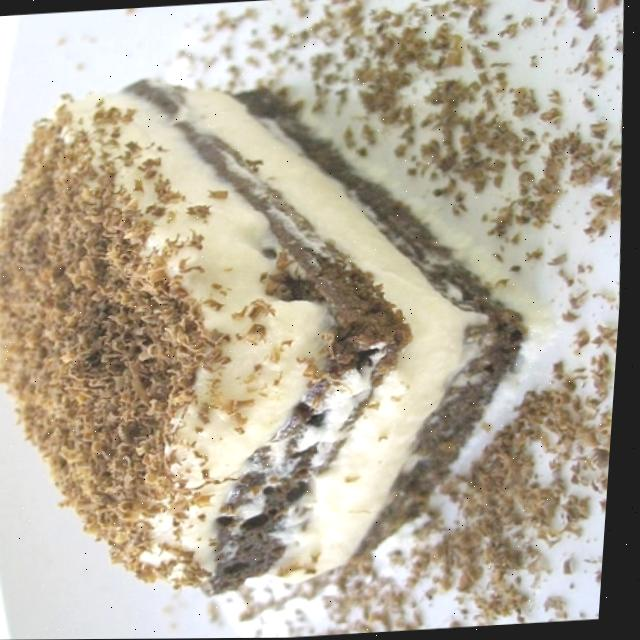蛋糕甜品: (0, 11, 611, 640)
